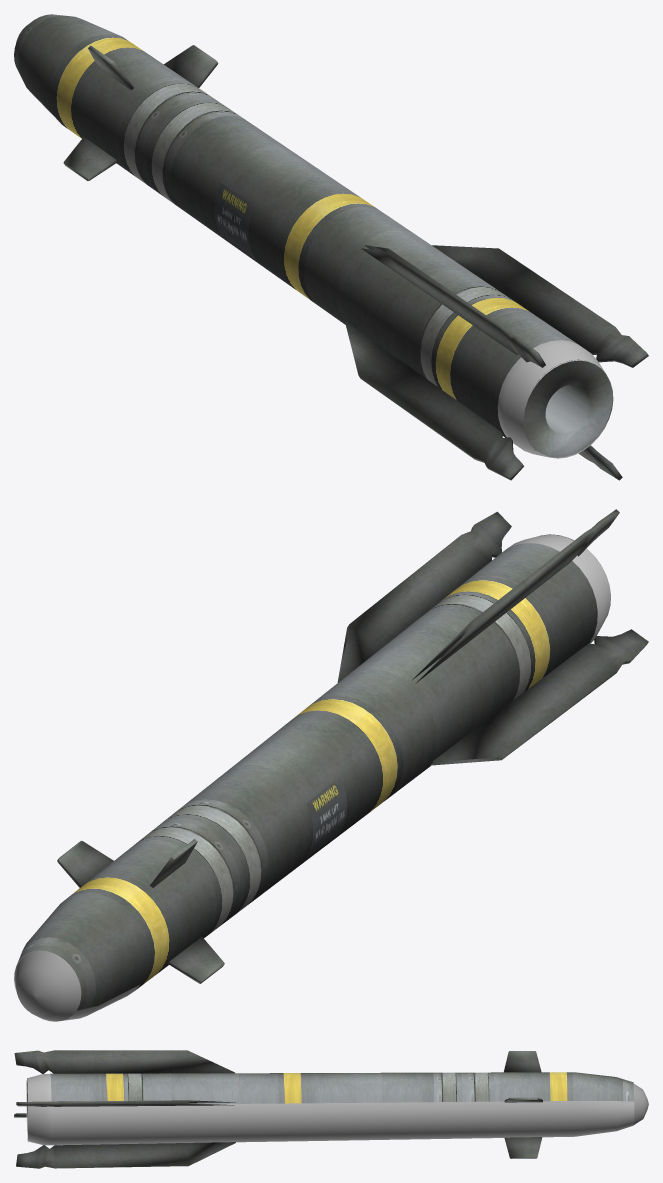
File: missile.obj
3 renders of one model, top to bottom at view 1: azimuth 30°, elevation 25°; view 2: azimuth 150°, elevation 25°; view 3: azimuth 270°, elevation 25°, orthographic. The views are drawn at different scales.
Bounding box in the file's own units: 1.13 × 1.06 × 6.54.
Materials: 3 (2 with a texture image).
